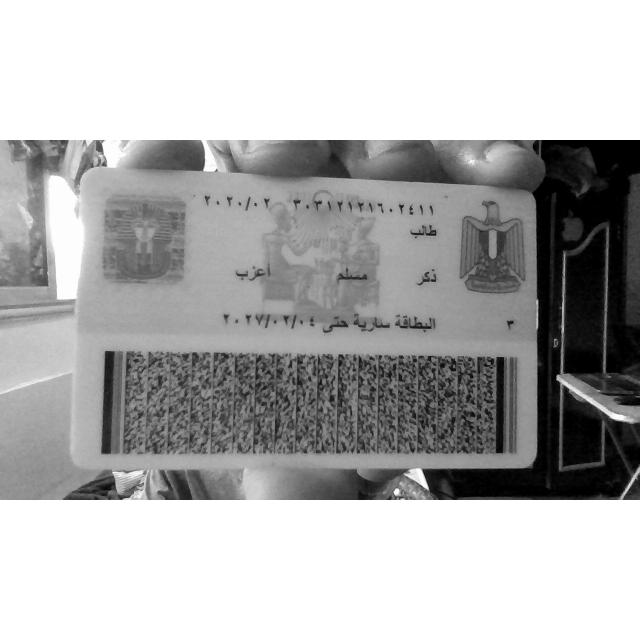back: (72, 168, 538, 470)
